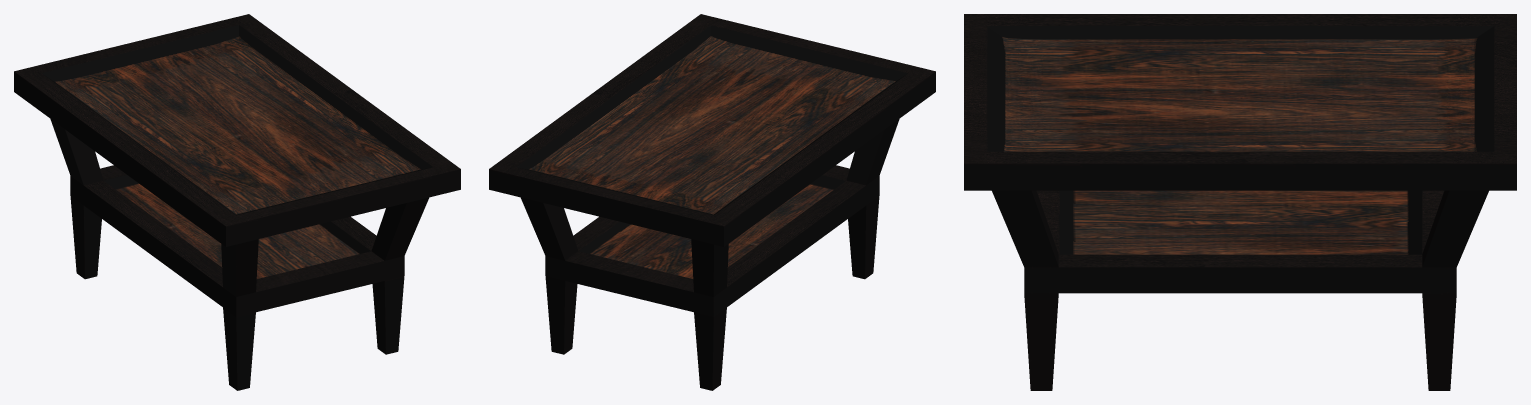
The model's file is CoffeeTable_Q_UN_TEX.FBX.
The picture shows the model from 3 angles, left to right: view 1: azimuth 30°, elevation 25°; view 2: azimuth 150°, elevation 25°; view 3: azimuth 270°, elevation 25°; orthographic projection. The views are drawn at different scales.
Parts seen in each view (by area): view 1: coffeeTable; view 2: coffeeTable; view 3: coffeeTable.
Part boxes in pixels (x1,y1,x2,y2): coffeeTable: (14, 14, 460, 390); coffeeTable: (489, 14, 935, 390); coffeeTable: (964, 14, 1516, 390).
Bounding box in the file's own units: 28.59 × 22.35 × 44.63.
